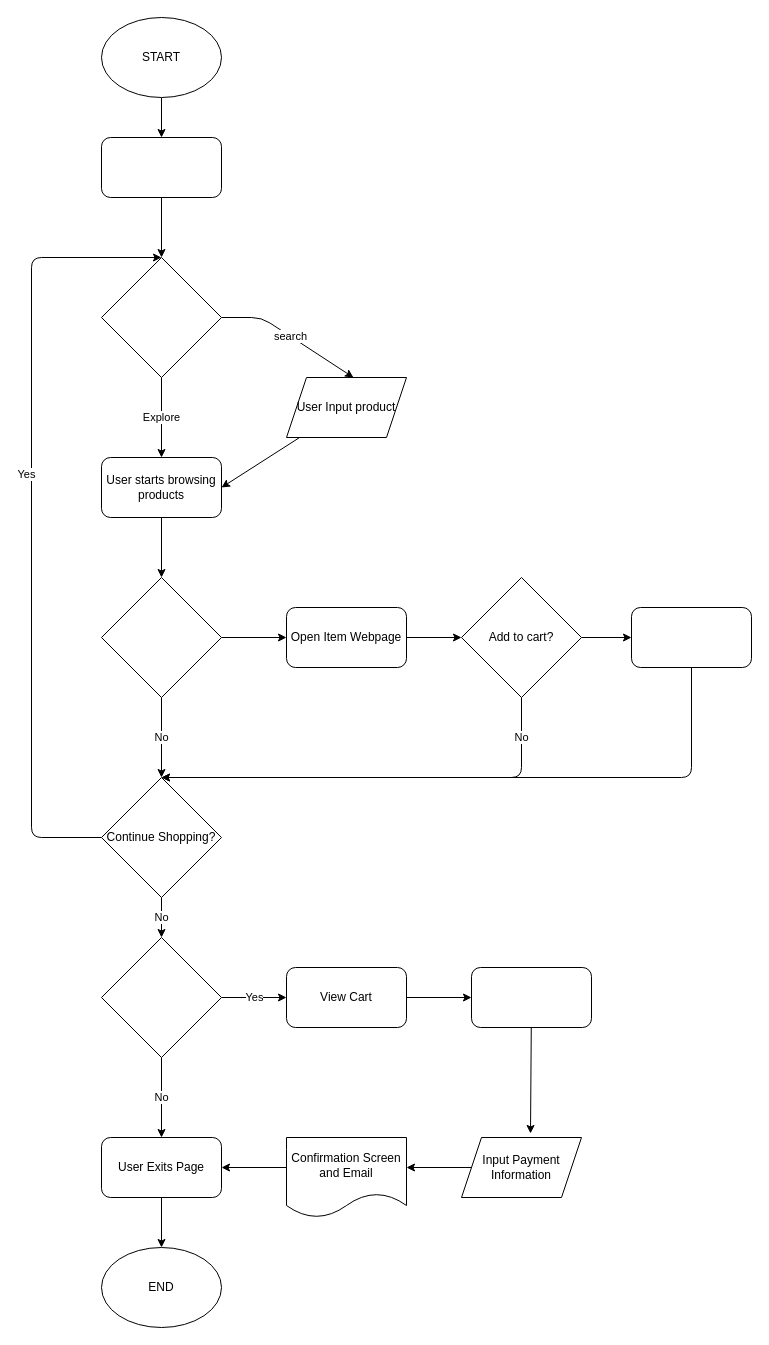
This 769x1345 diagram has some shape labels left out. Here are the shapes that lost their labels. From the top down, the centre of each, then its label:
(161,167): User Enters Website
(161,317): Search or explore?
(161,637): View a specific product?
(691,637): Add to cart confirmation
(161,997): Checkout?
(531,997): View Payment
